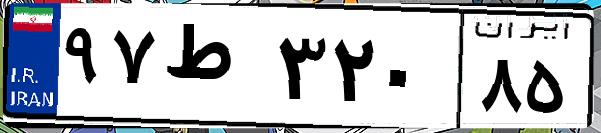0: (385, 28, 445, 110)
2: (330, 28, 385, 110)
3: (270, 28, 330, 110)
5: (525, 38, 570, 115)
7: (110, 28, 158, 98)
8: (475, 38, 525, 113)
9: (57, 26, 110, 100)
ط: (158, 20, 270, 120)
